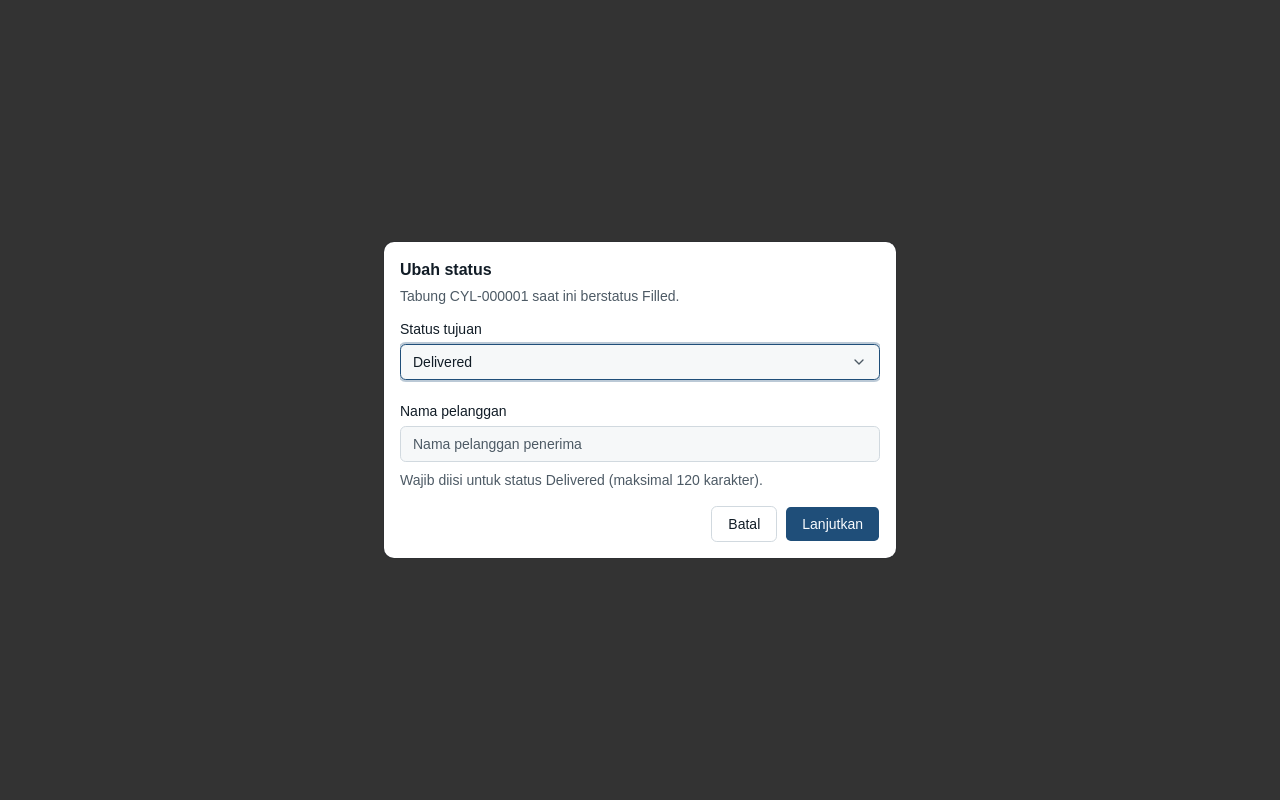
Test: StatusChangeDialog › hanya menampilkan transisi yang diizinkan dari status Filled
Step 1. Click the dropdown named "Status tujuan" → point(443, 362), box [400,344,880,380]
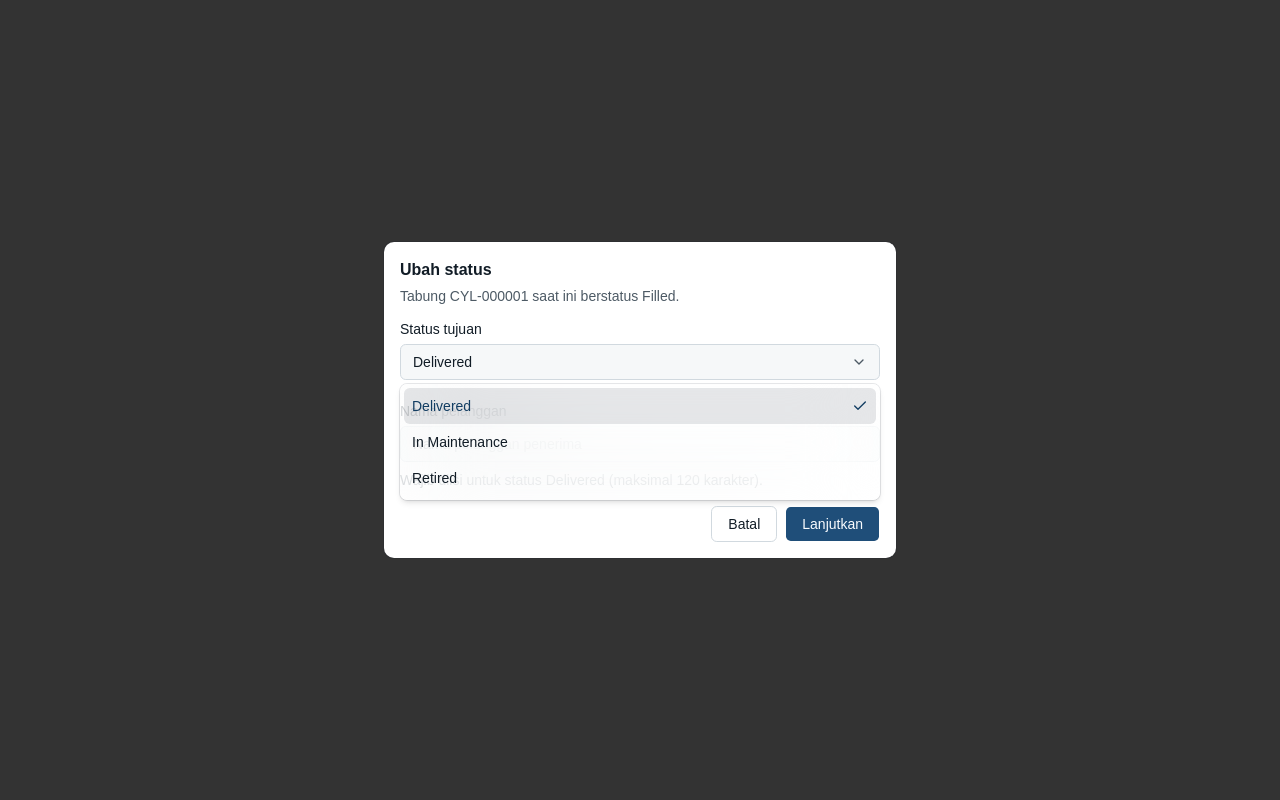
Now the options read "Delivered", "In Maintenance", "Retired", in this order, box [404,388,876,424]; [412,434,508,450]; [412,470,457,486]
